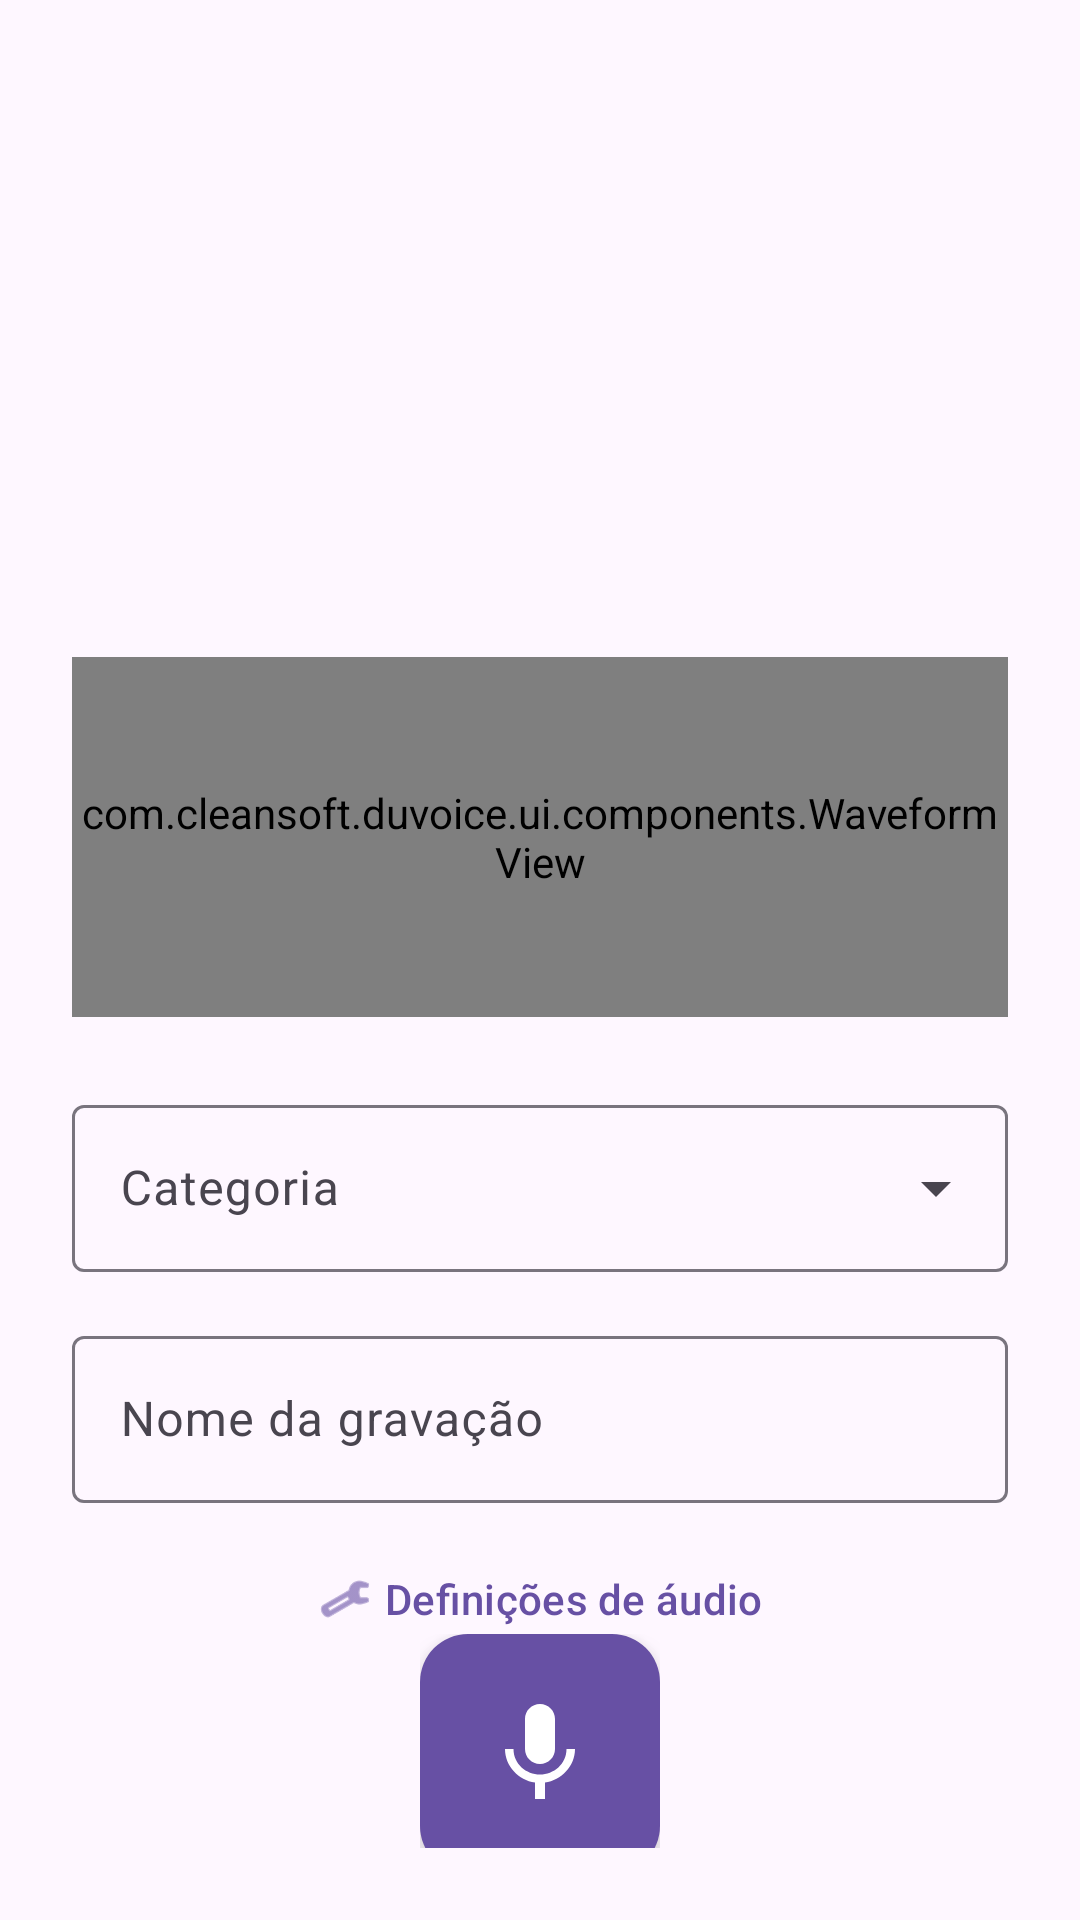

Where to tap for icons on this 1080px x 1920px app screen, as (x,y):
Gravar: (540,1741)
